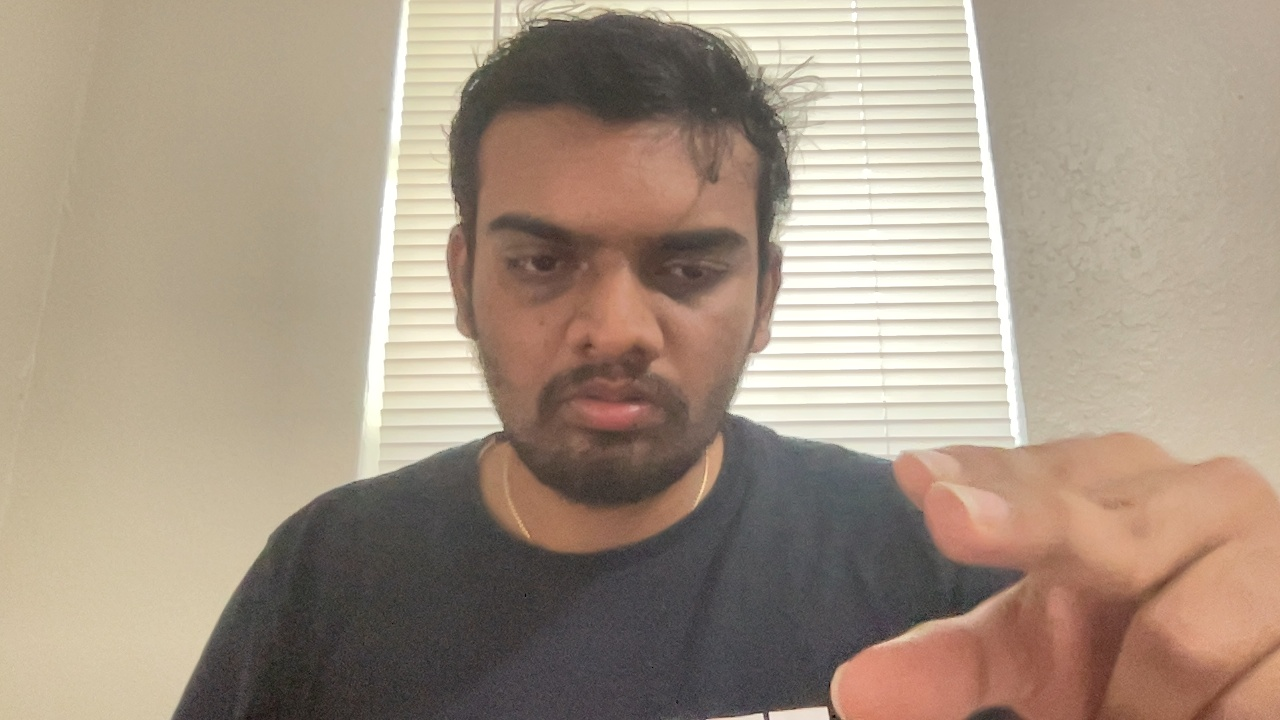no: (825, 418, 1280, 720)
